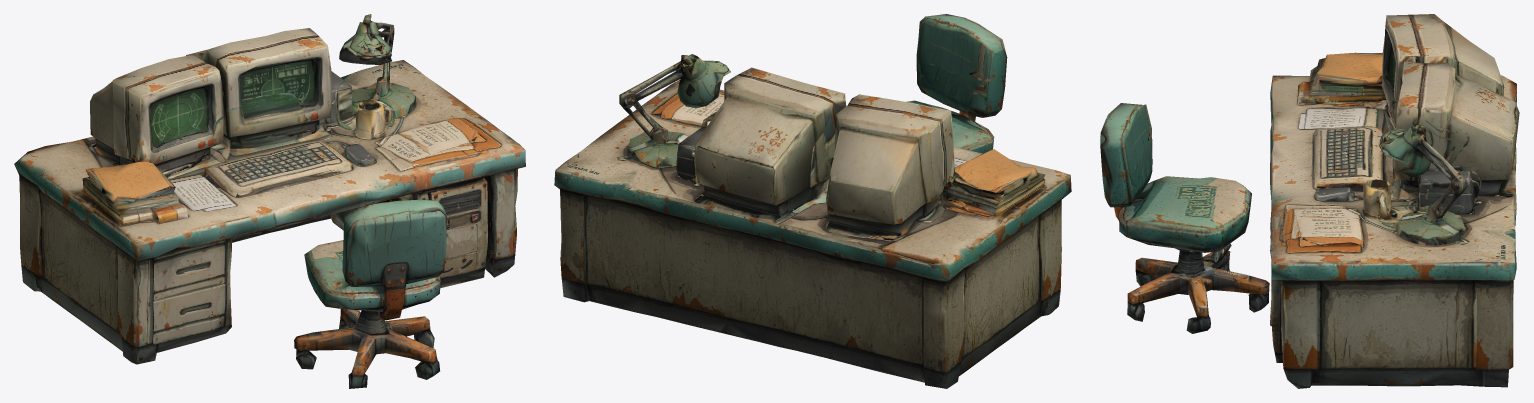
File: EX_Lab_ComputerDesk.fbx
3 renders of one model, left to right at view 1: azimuth 30°, elevation 25°; view 2: azimuth 150°, elevation 25°; view 3: azimuth 270°, elevation 25°, orthographic.
Parts seen in each view (by area): view 1: texture_mapping; view 2: texture_mapping; view 3: texture_mapping.
Boxes of the visible parts, <box> form: texture_mapping: <box>14,14,525,388</box>; texture_mapping: <box>554,14,1071,388</box>; texture_mapping: <box>1100,14,1519,388</box>.
Bounding box in the file's own units: 0.9981 × 0.9344 × 0.5759.
1 material, 1 textured.
